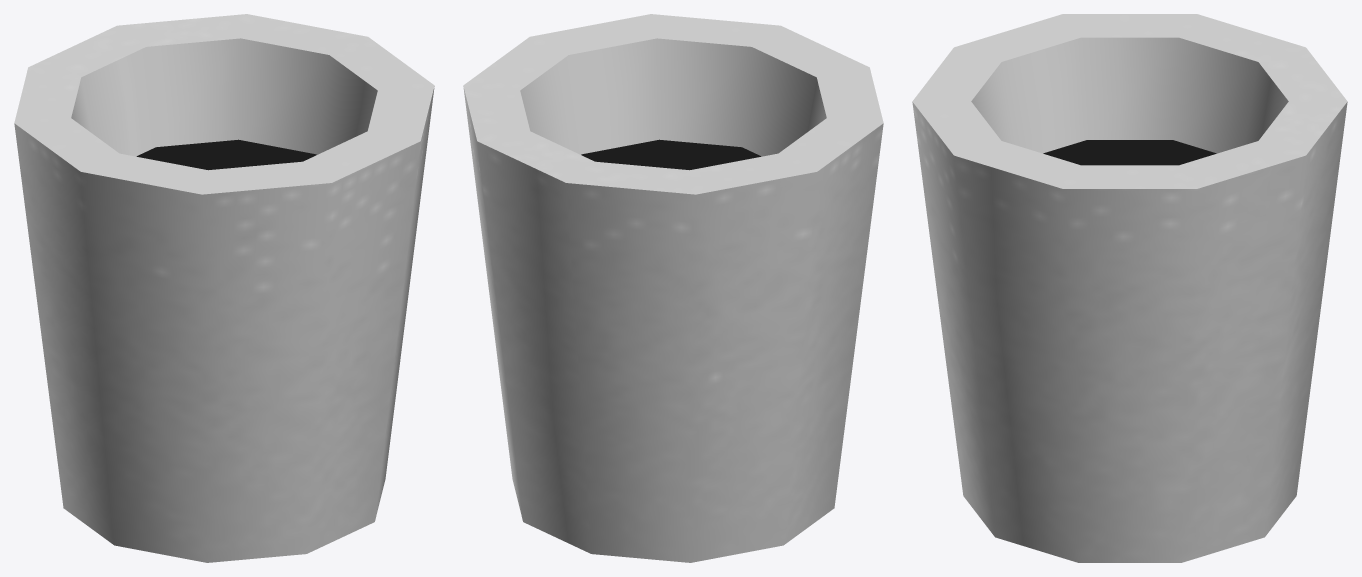
The model's file is Bedroom_Trash.fbx.
The picture shows the model from 3 angles, left to right: view 1: azimuth 30°, elevation 25°; view 2: azimuth 150°, elevation 25°; view 3: azimuth 270°, elevation 25°; orthographic projection.
Visible parts, largest first — view 1: Cylinder.002; view 2: Cylinder.002; view 3: Cylinder.002.
Boxes of the visible parts, x1,y1,x2,y2 form: Cylinder.002: (14,14,434,562); Cylinder.002: (463,14,883,562); Cylinder.002: (912,14,1347,562).
Bounding box in the file's own units: 46.3 × 48.68 × 48.68.
